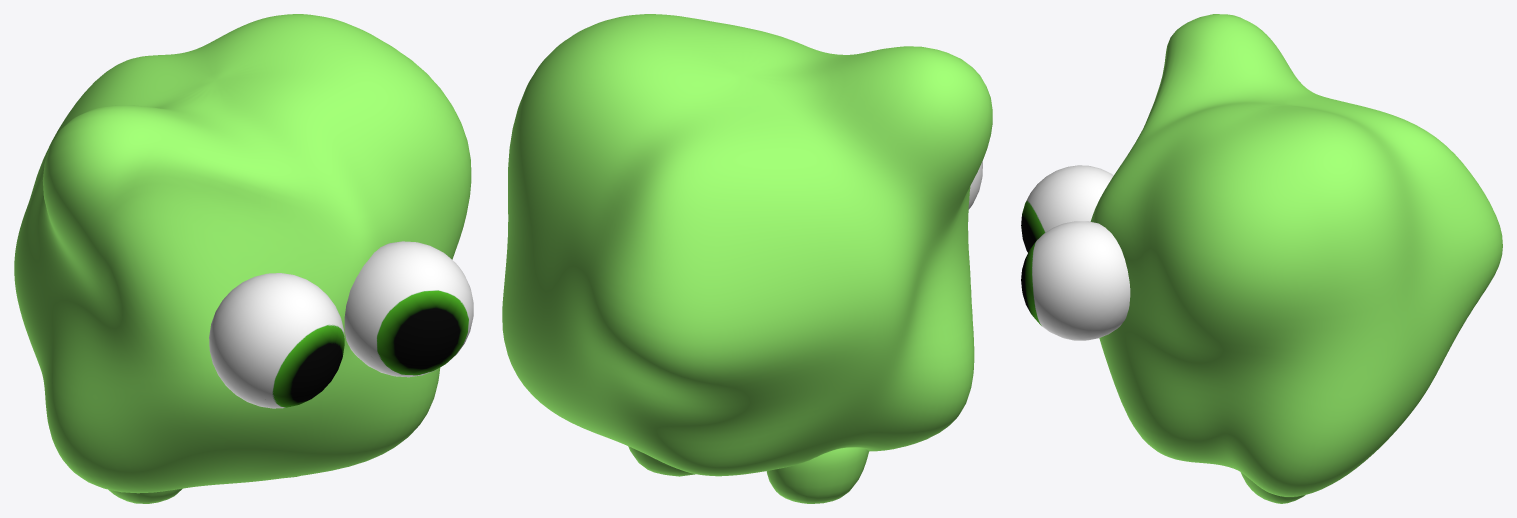
The model's file is GLOBBYFIGGREEN.gltf.
3 views of the same model, side by side, from view 1: azimuth 30°, elevation 25°; view 2: azimuth 150°, elevation 25°; view 3: azimuth 270°, elevation 25° (orthographic). The views are drawn at different scales.
Parts seen in each view (by area): view 1: L EYE.005; view 2: L EYE.005; view 3: L EYE.005.
Boxes of the visible parts, <box> form: L EYE.005: <box>14,14,473,503</box>; L EYE.005: <box>502,14,992,503</box>; L EYE.005: <box>1021,14,1502,503</box>.
Bounding box in the file's own units: 4.94 × 4.87 × 5.53.
Materials: 2 (1 with a texture image).
